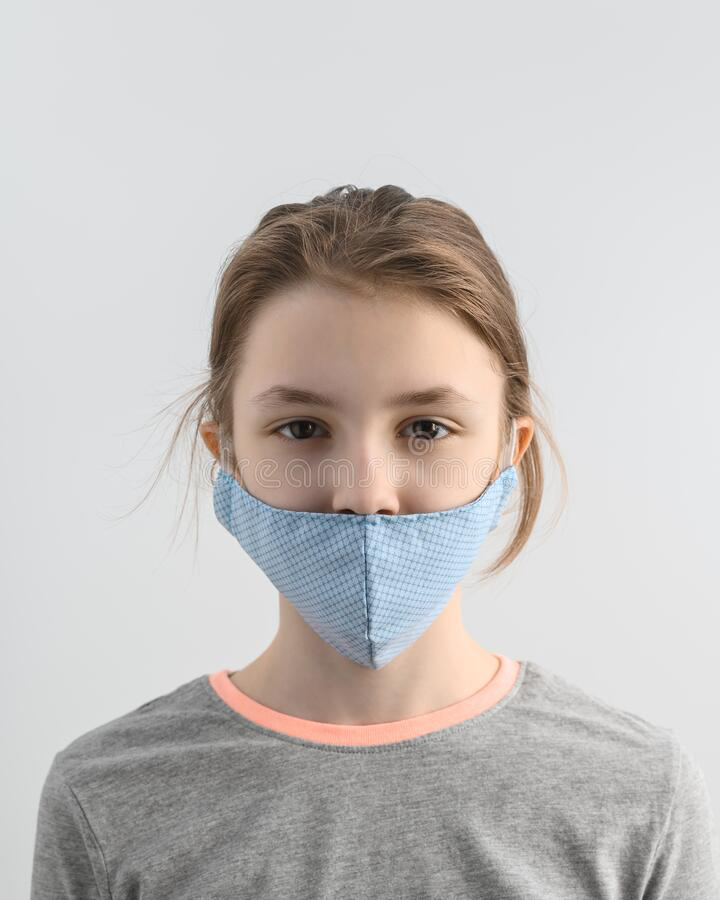mask_weared_incorrect: (231, 398, 500, 672)
